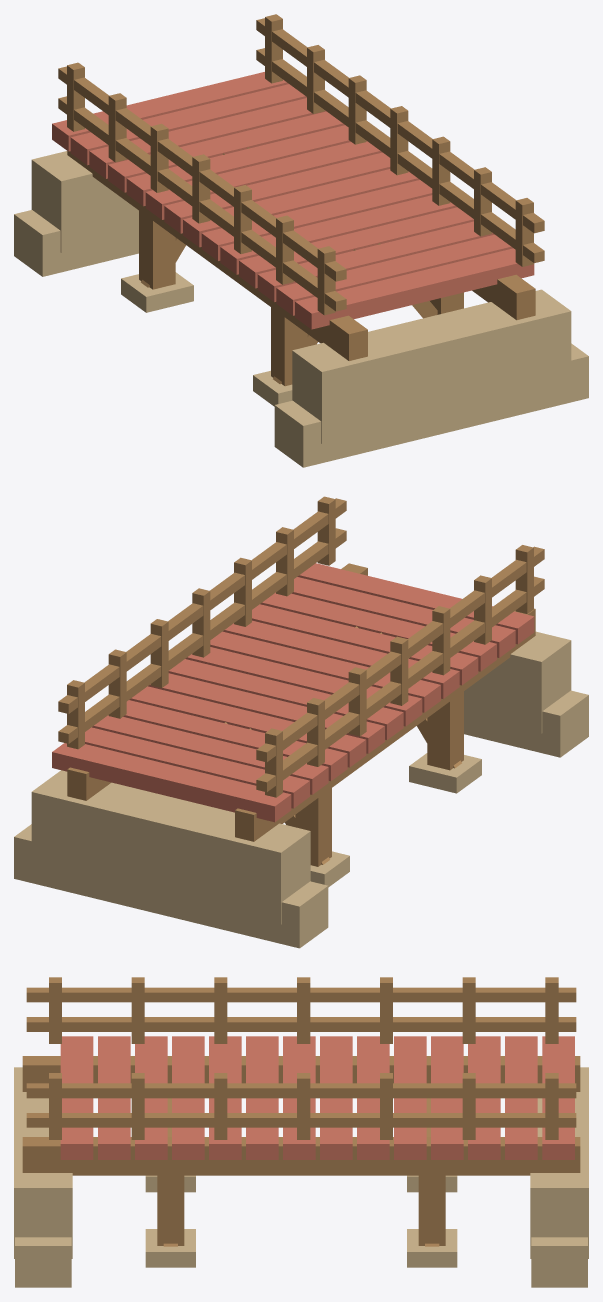
The model's file is wooden-bridge.source.glb.
3 renders of one model, top to bottom at view 1: azimuth 30°, elevation 25°; view 2: azimuth 150°, elevation 25°; view 3: azimuth 270°, elevation 25°, orthographic.
Parts seen in each view (by area): view 1: wooden-bridge-front-abutment-shoulder-mesh, wooden-bridge-front-abutment-base-mesh, wooden-bridge-rear-abutment-shoulder-mesh, wooden-bridge-road-plank-2.0600000000000005-mesh, wooden-bridge-left-rail-1.78-mesh, wooden-bridge-left-rail-1.48-mesh, wooden-bridge-right-rail-1.48-mesh, wooden-bridge-right-rail-1.78-mesh, wooden-bridge-post-left-mesh (×2), wooden-bridge-rear-abutment-base-mesh, wooden-bridge-road-plank-1.7200000000000006-mesh, wooden-bridge-long-beam--0.88-mesh (+28 smaller); view 2: wooden-bridge-rear-abutment-shoulder-mesh, wooden-bridge-rear-abutment-base-mesh, wooden-bridge-road-plank--2.36-mesh, wooden-bridge-front-abutment-shoulder-mesh, wooden-bridge-right-rail-1.78-mesh, wooden-bridge-right-rail-1.48-mesh, wooden-bridge-left-rail-1.78-mesh, wooden-bridge-left-rail-1.48-mesh, wooden-bridge-post-left-mesh (×2), wooden-bridge-front-abutment-base-mesh, wooden-bridge-road-plank--2.02-mesh, wooden-bridge-road-plank--1.68-mesh (+28 smaller); view 3: wooden-bridge-long-beam-0.88-mesh, wooden-bridge-right-rail-1.78-mesh, wooden-bridge-left-rail-1.78-mesh, wooden-bridge-left-rail-1.48-mesh, wooden-bridge-right-rail-1.48-mesh, wooden-bridge-front-abutment-shoulder-mesh, wooden-bridge-rear-abutment-shoulder-mesh, wooden-bridge-post-right-mesh (×2), wooden-bridge-road-plank--2.02-mesh, wooden-bridge-road-plank--0.9999999999999998-mesh, wooden-bridge-road-plank--0.3199999999999997-mesh, wooden-bridge-road-plank-0.3600000000000004-mesh (+29 smaller).
Boxes of the visible parts, x1,y1,x2,y2 form: wooden-bridge-front-abutment-shoulder-mesh: (292, 289, 571, 443); wooden-bridge-front-abutment-base-mesh: (274, 343, 588, 467); wooden-bridge-rear-abutment-shoulder-mesh: (31, 151, 138, 252); wooden-bridge-road-plank-2.0600000000000005-mesh: (295, 248, 534, 329); wooden-bridge-left-rail-1.78-mesh: (58, 66, 346, 281); wooden-bridge-left-rail-1.48-mesh: (58, 96, 346, 311); wooden-bridge-right-rail-1.48-mesh: (256, 48, 544, 263); wooden-bridge-right-rail-1.78-mesh: (256, 18, 544, 233); wooden-bridge-post-left-mesh (×2): (139, 211, 307, 386); wooden-bridge-rear-abutment-base-mesh: (14, 210, 138, 276); wooden-bridge-road-plank-1.7200000000000006-mesh: (276, 234, 512, 315); wooden-bridge-long-beam--0.88-mesh: (67, 151, 367, 360); wooden-bridge-rear-abutment-shoulder-mesh: (31, 770, 310, 924); wooden-bridge-rear-abutment-base-mesh: (14, 824, 328, 948); wooden-bridge-road-plank--2.36-mesh: (52, 743, 291, 822); wooden-bridge-front-abutment-shoulder-mesh: (464, 631, 571, 733); wooden-bridge-right-rail-1.78-mesh: (58, 498, 346, 713); wooden-bridge-right-rail-1.48-mesh: (58, 528, 346, 743); wooden-bridge-left-rail-1.78-mesh: (256, 546, 544, 762); wooden-bridge-left-rail-1.48-mesh: (256, 576, 544, 792); wooden-bridge-post-left-mesh (×2): (295, 691, 463, 866); wooden-bridge-front-abutment-base-mesh: (464, 690, 588, 757); wooden-bridge-road-plank--2.02-mesh: (85, 727, 309, 808); wooden-bridge-road-plank--1.68-mesh: (92, 715, 328, 794); wooden-bridge-long-beam-0.88-mesh: (22, 1137, 580, 1175); wooden-bridge-right-rail-1.78-mesh: (26, 1083, 576, 1098); wooden-bridge-left-rail-1.78-mesh: (26, 987, 576, 1002); wooden-bridge-left-rail-1.48-mesh: (26, 1017, 576, 1031); wooden-bridge-right-rail-1.48-mesh: (26, 1113, 576, 1127); wooden-bridge-front-abutment-shoulder-mesh: (14, 1067, 72, 1258); wooden-bridge-rear-abutment-shoulder-mesh: (530, 1067, 588, 1258); wooden-bridge-post-right-mesh (×2): (157, 1175, 445, 1245); wooden-bridge-road-plank--2.02-mesh: (505, 1036, 537, 1159); wooden-bridge-road-plank--0.9999999999999998-mesh: (394, 1036, 426, 1159); wooden-bridge-road-plank--0.3199999999999997-mesh: (320, 1036, 352, 1159); wooden-bridge-road-plank-0.3600000000000004-mesh: (246, 1036, 278, 1159).
Bounding box in the file's own units: 3 × 1.93 × 5.28.
